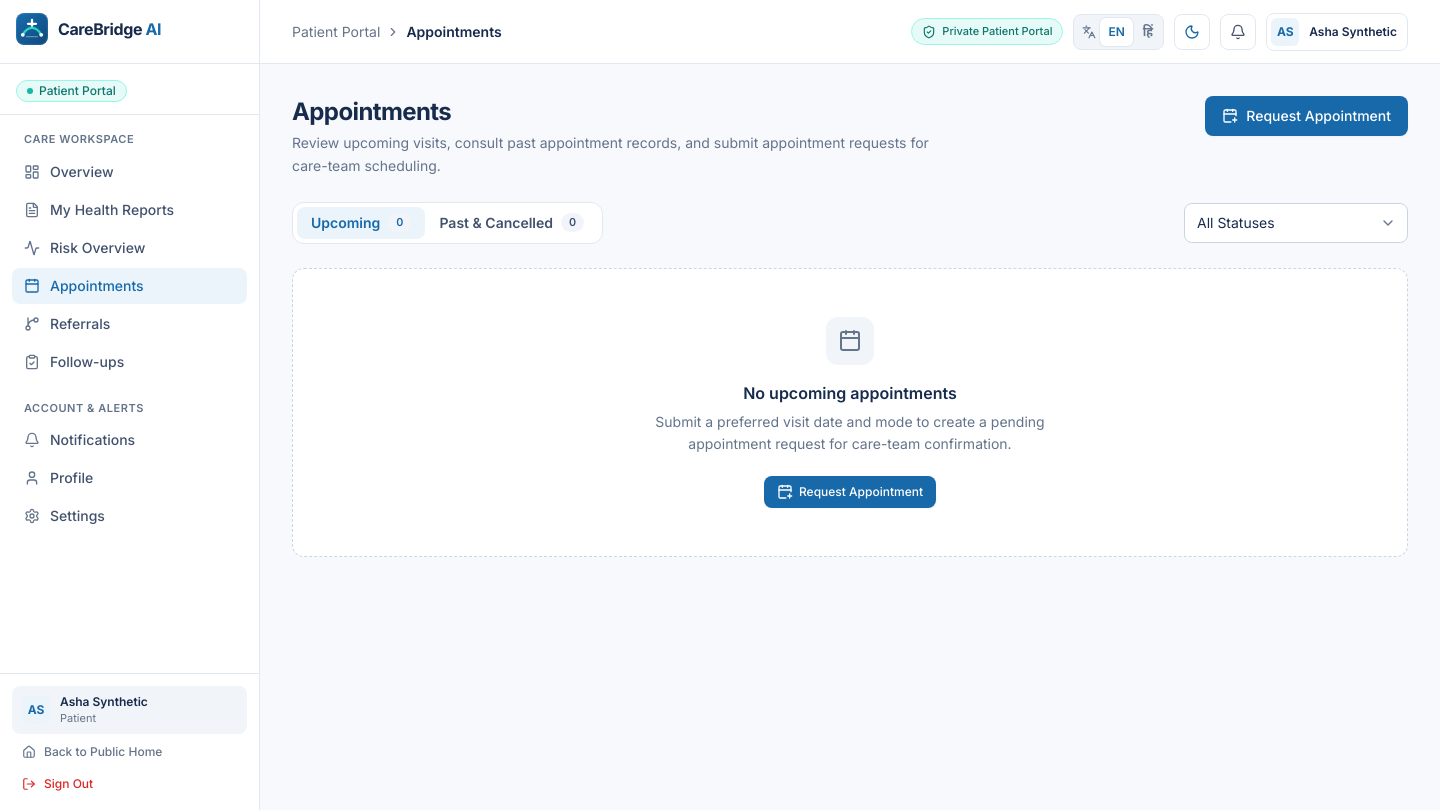
Phase 5 — Patient Dashboard & Patient Portal Integration Suite › requests a PENDING appointment and supports viewing details and cancellation
Later steps or results of the test are not shown.
Expected: the heading "No upcoming appointments" is shown, x1=743 y1=380 x2=957 y2=404
Click the 1st button "Request Appointment" at (1307, 116), box x1=1205 y1=96 x2=1408 y2=136
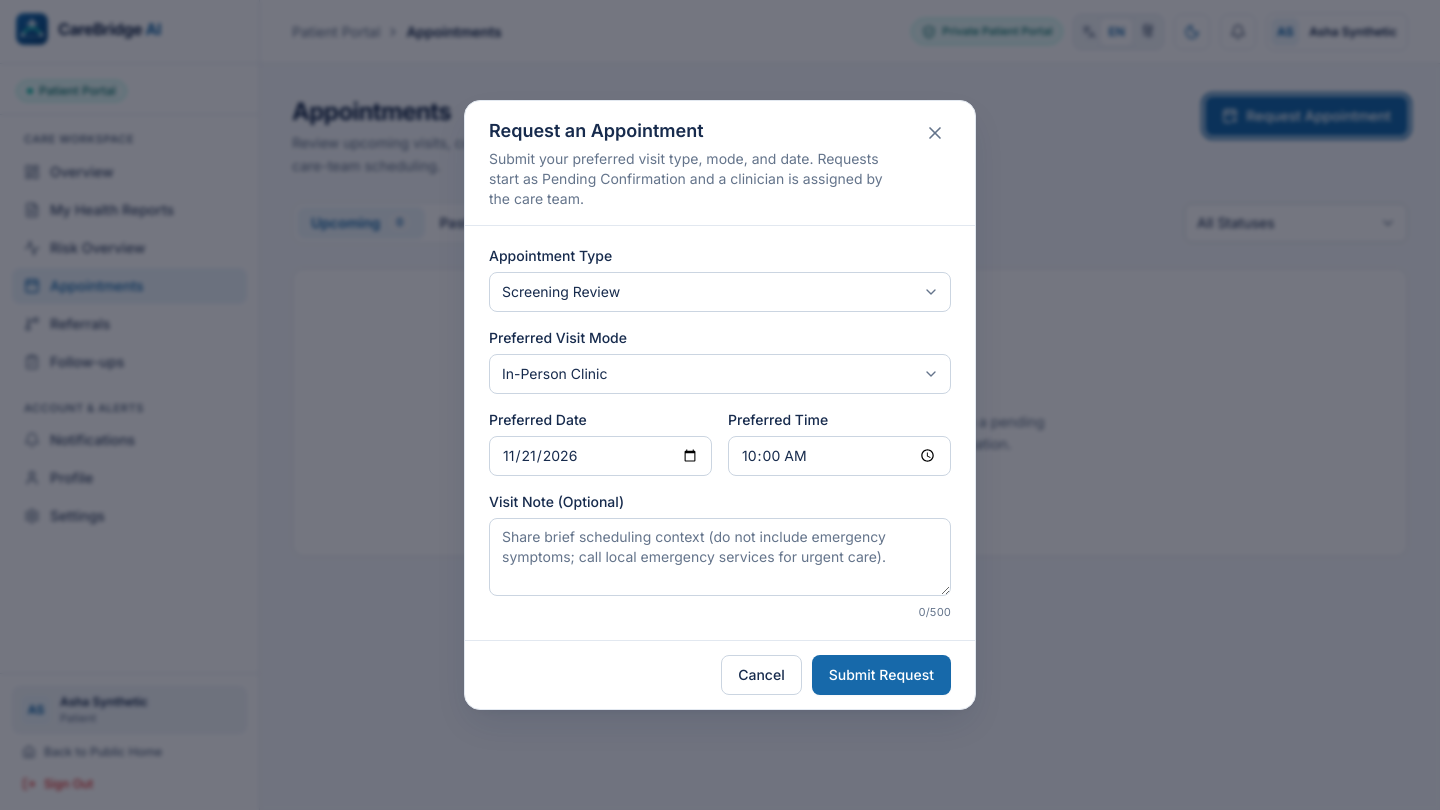
Select "Teleconsultation" in the dropdown labelled "Preferred Visit Mode" at (720, 374), box x1=489 y1=354 x2=951 y2=394
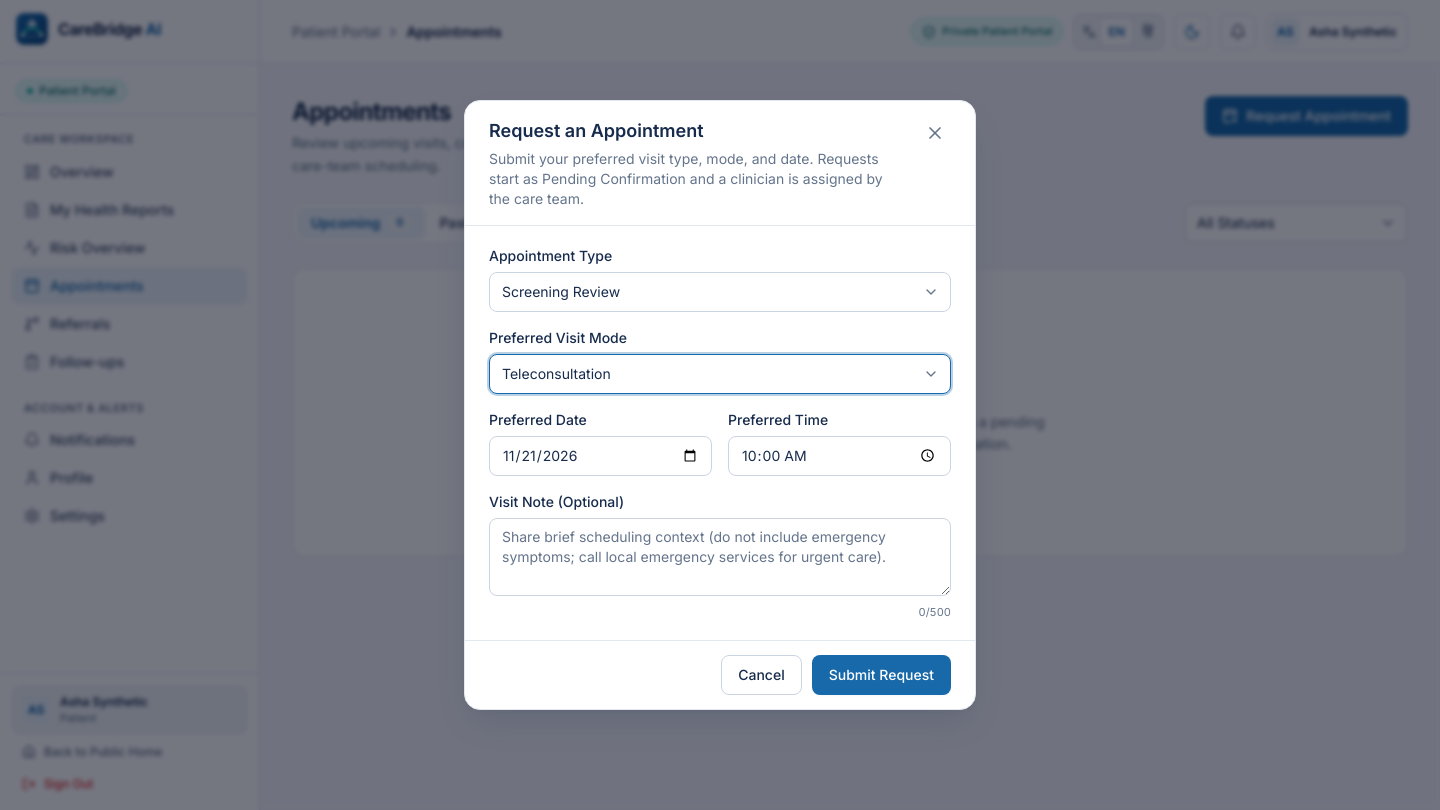
Type "Review uploaded synthetic report" into the text box labelled "Visit Note (Optional)" at (720, 557), box x1=489 y1=518 x2=951 y2=596
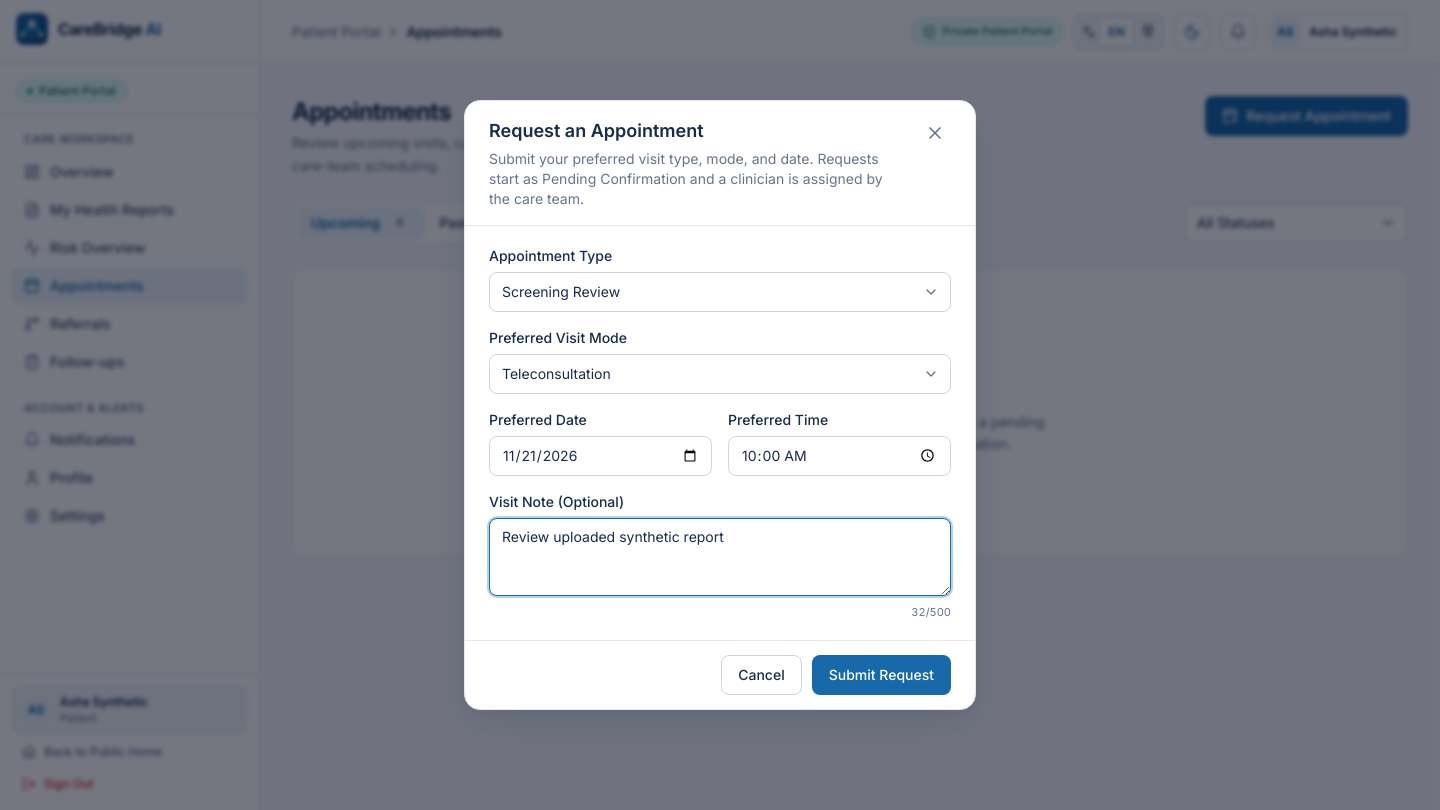
Click the button "Submit Request" at (881, 675), box x1=812 y1=655 x2=951 y2=695
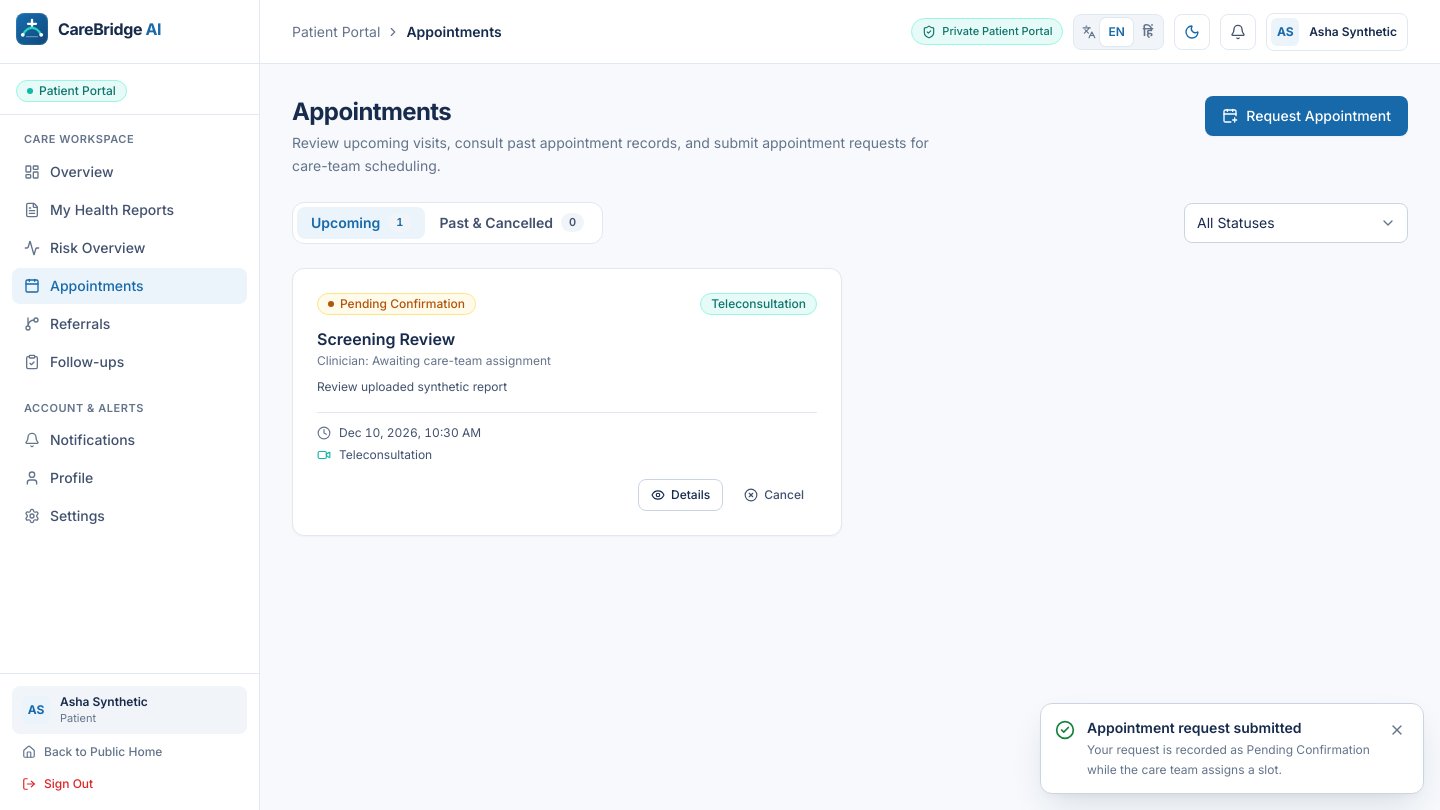
Now the text "Clinician: Awaiting care-team assignment" is shown, box x1=317 y1=352 x2=551 y2=368
